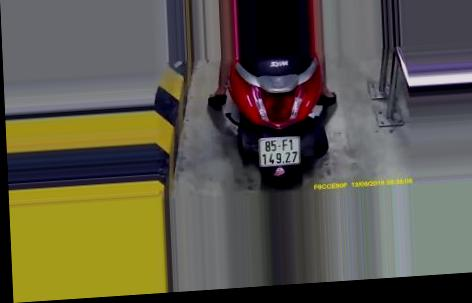License_Plate: (254, 130, 302, 171)
